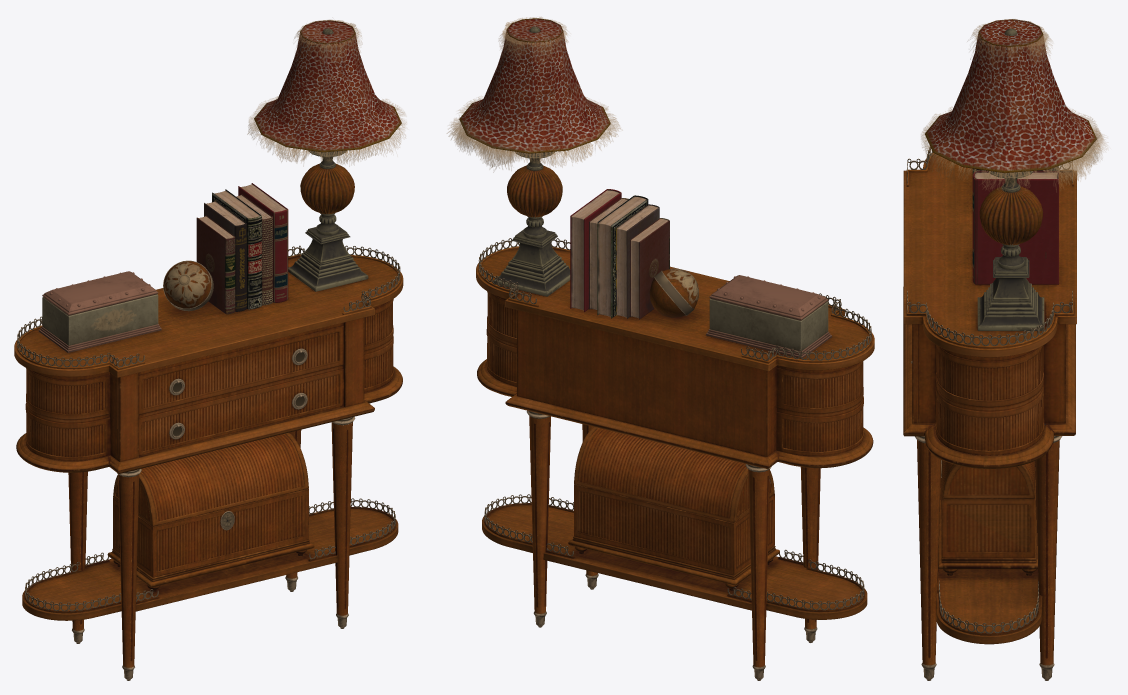
File: american_side_table.glb
3 views of the same model, side by side, from view 1: azimuth 30°, elevation 25°; view 2: azimuth 150°, elevation 25°; view 3: azimuth 270°, elevation 25° (orthographic). The views are drawn at different scales.
Visible parts, largest first — view 1: object 3, object 5, object 10, Box002_4, Box001_18, Cylinder047_8, object 1, Sphere001_16; view 2: object 3, object 5, object 10, Box002_4, Box001_18, Cylinder047_8, object 1, Sphere001_16; view 3: object 3, object 10, object 5, Box002_4, object 1, Cylinder047_8.
Boxes of the visible parts, <box> form: object 3: <box>14,254,403,620</box>; object 5: <box>26,302,393,667</box>; object 10: <box>254,20,401,291</box>; Box002_4: <box>196,183,288,314</box>; Box001_18: <box>38,271,161,352</box>; Cylinder047_8: <box>107,432,314,591</box>; object 1: <box>247,19,406,166</box>; Sphere001_16: <box>163,260,213,311</box>; object 3: <box>476,246,874,619</box>; object 5: <box>487,293,863,667</box>; object 10: <box>459,18,610,296</box>; Box002_4: <box>570,189,669,319</box>; Box001_18: <box>706,275,831,358</box>; Cylinder047_8: <box>568,427,779,590</box>; object 1: <box>447,17,622,172</box>; Sphere001_16: <box>649,268,698,317</box>; object 3: <box>903,153,1076,644</box>; object 10: <box>925,19,1096,330</box>; object 5: <box>917,347,1059,665</box>; Box002_4: <box>972,166,1058,284</box>; object 1: <box>921,19,1107,191</box>; Cylinder047_8: <box>938,460,1037,575</box>.
Size of the model in its own units: 1268 by 1783 by 509.
Materials: 3 (3 with a texture image).
